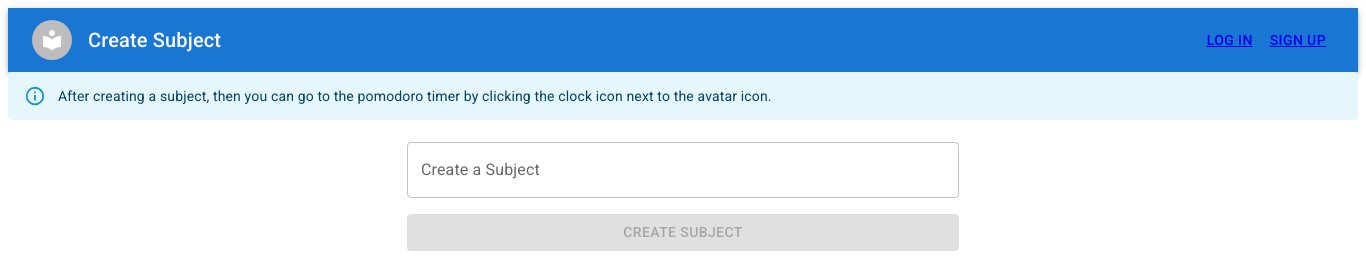
Test: CreateSubject › Should have enabled Create Subject button if there is an input
Type "Hello" into the field labelled "Create a Subject".
click(683, 170); type("Hello")  # box left=407, top=142, right=959, bottom=198
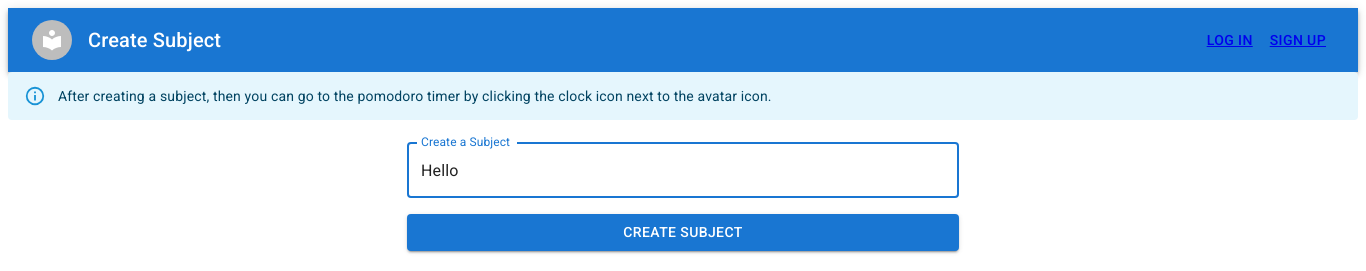
Check: the button "Create Subject" is enabled, box left=407, top=214, right=959, bottom=251
